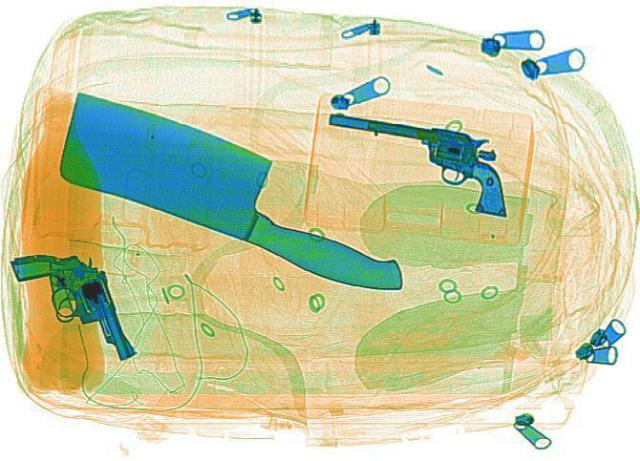Gun: (302, 82, 554, 219), (9, 241, 139, 367)
Knife: (14, 83, 458, 300)
